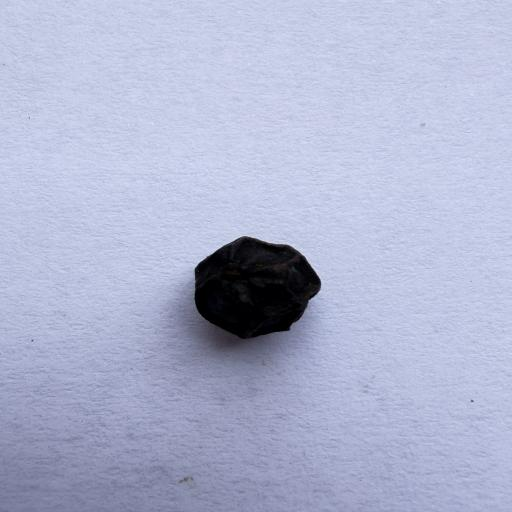Black_pepper: (80, 188, 402, 370)
